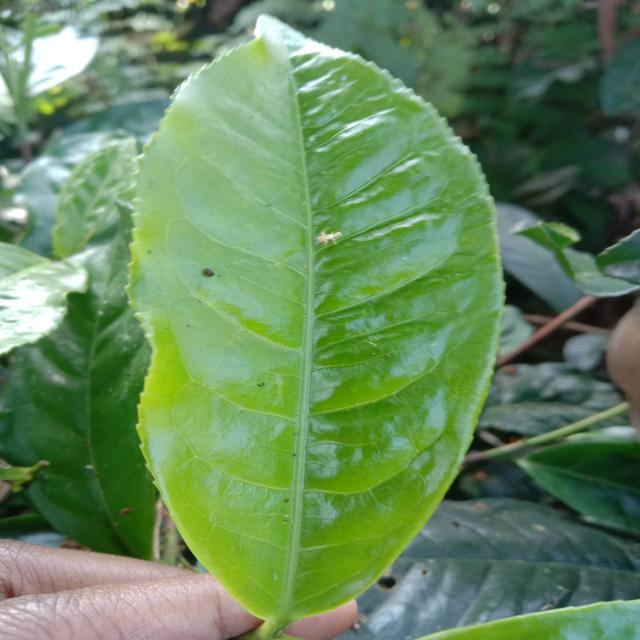Category B 2-4 days: (106, 6, 502, 627)
